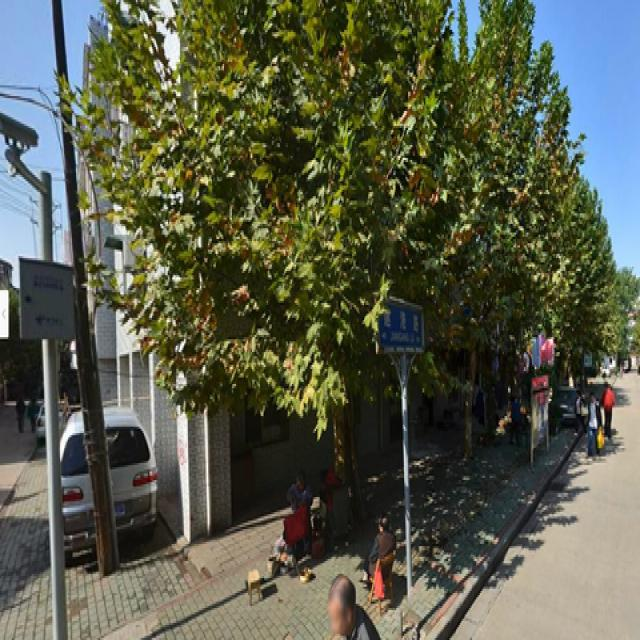meta: (203, 15, 409, 540)
